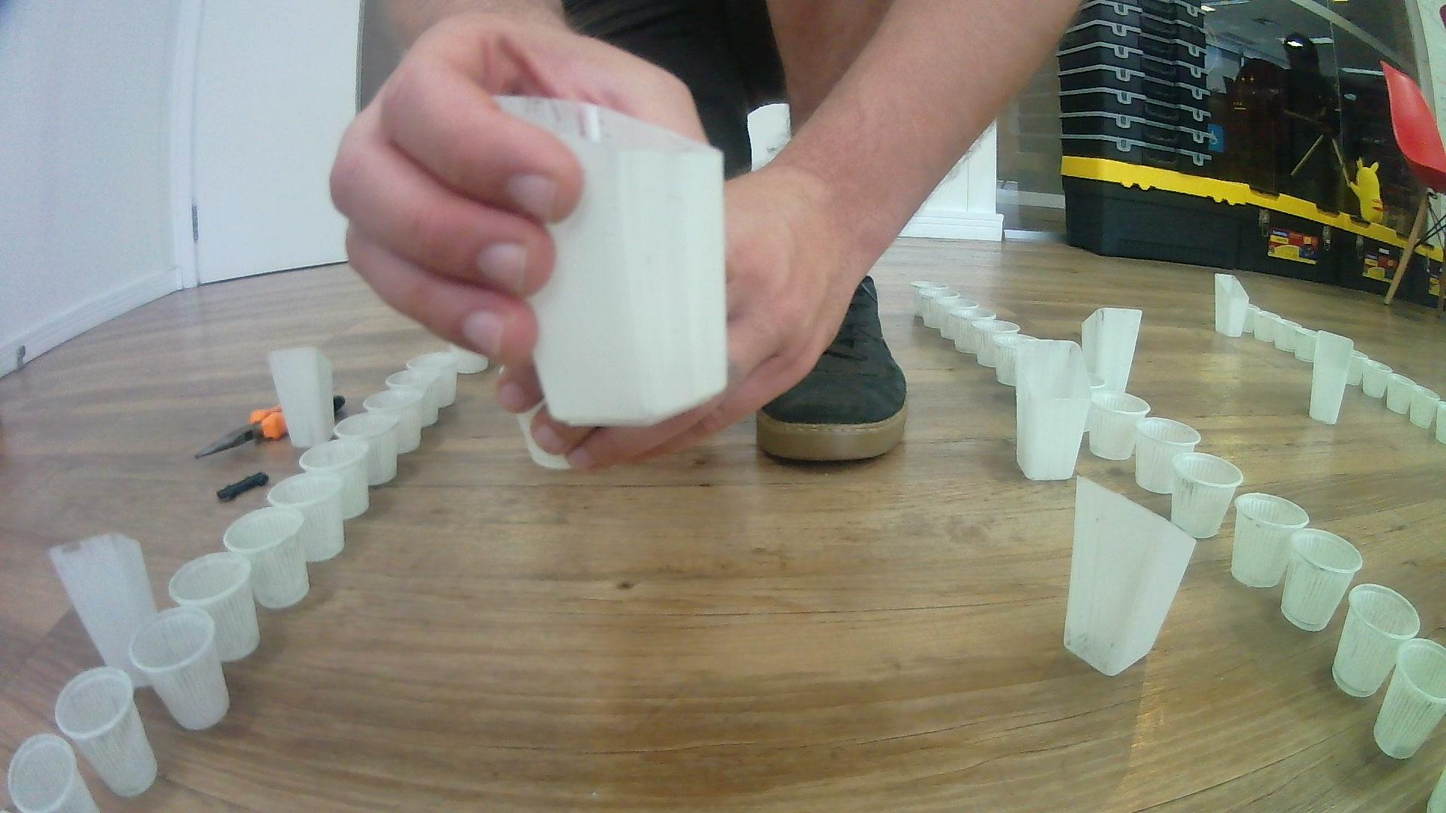erva_daninha: (484, 88, 728, 428), (1061, 470, 1197, 678), (48, 531, 160, 692), (1014, 334, 1091, 483), (266, 346, 337, 449), (1081, 306, 1143, 397), (1308, 329, 1356, 426), (1214, 272, 1251, 337)
planta: (54, 665, 157, 799), (126, 607, 230, 733), (1330, 582, 1421, 699), (168, 551, 260, 665), (223, 507, 310, 611), (1372, 638, 1446, 760), (1280, 528, 1365, 633), (6, 732, 101, 813), (1231, 492, 1310, 589), (267, 470, 346, 564), (1170, 451, 1245, 540), (300, 438, 369, 522), (1133, 416, 1202, 495), (334, 413, 397, 486), (1087, 391, 1151, 461), (363, 387, 423, 454), (383, 370, 440, 427), (404, 353, 458, 410), (993, 333, 1039, 387), (972, 320, 1021, 368), (952, 308, 997, 355), (938, 297, 981, 340), (437, 345, 490, 376), (910, 279, 948, 317), (923, 288, 959, 328), (1409, 386, 1441, 429), (1386, 373, 1417, 414), (1362, 360, 1393, 399), (1251, 308, 1280, 343), (1274, 318, 1303, 352), (1294, 328, 1322, 362), (1347, 350, 1370, 387), (1435, 400, 1446, 444)
